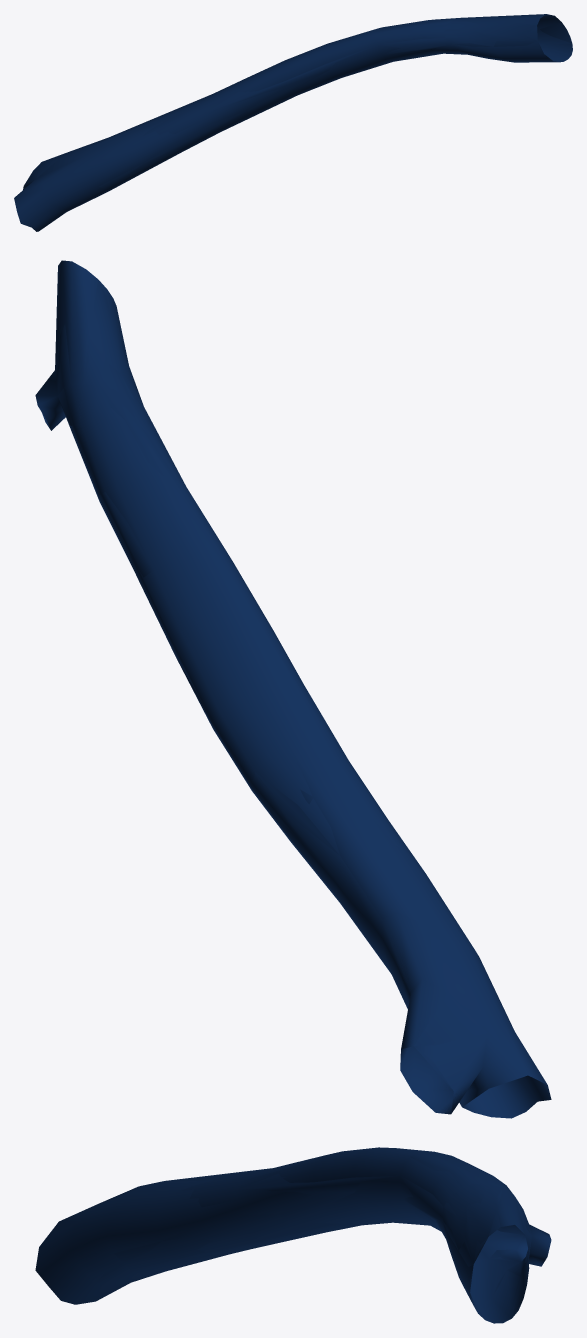
The model's file is R vena iliaca externa.fbx.
The picture shows the model from 3 angles, top to bottom: view 1: azimuth 30°, elevation 25°; view 2: azimuth 150°, elevation 25°; view 3: azimuth 330°, elevation 25°; orthographic projection. The views are drawn at different scales.
Parts seen in each view (by area): view 1: R vena iliaca externa, R vena iliaca externa low; view 2: R vena iliaca externa, R vena iliaca externa low; view 3: R vena iliaca externa, R vena iliaca externa low.
Part boxes in pixels (x1=…): R vena iliaca externa: x1=14, y1=14, x2=572, y2=231; R vena iliaca externa low: x1=15, y1=14, x2=572, y2=230; R vena iliaca externa: x1=35, y1=269, x2=551, y2=1118; R vena iliaca externa low: x1=37, y1=260, x2=550, y2=1117; R vena iliaca externa: x1=35, y1=1147, x2=551, y2=1323; R vena iliaca externa low: x1=36, y1=1148, x2=551, y2=1323.
Bounding box in the file's own units: 6.83 × 3.83 × 5.4.
